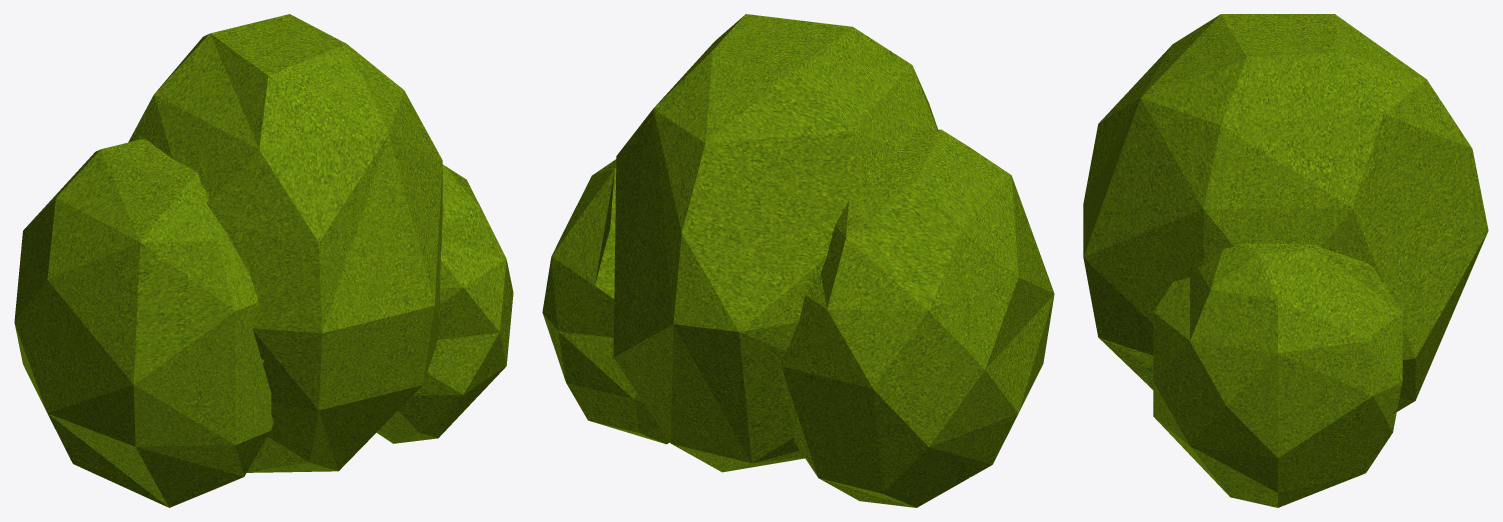
Rendered from arbusto.obj.
The picture shows the model from 3 angles, left to right: view 1: azimuth 30°, elevation 25°; view 2: azimuth 150°, elevation 25°; view 3: azimuth 270°, elevation 25°; orthographic projection. The views are drawn at different scales.
Parts seen in each view (by area): view 1: Sphere004; view 2: Sphere004; view 3: Sphere004.
Part boxes in pixels (x1=…): Sphere004: x1=14, y1=14, x2=513, y2=507; Sphere004: x1=542, y1=14, x2=1054, y2=507; Sphere004: x1=1083, y1=14, x2=1488, y2=507.
Size of the model in its own units: 1.2 by 1.07 by 0.9816.
1 material, 1 textured.
